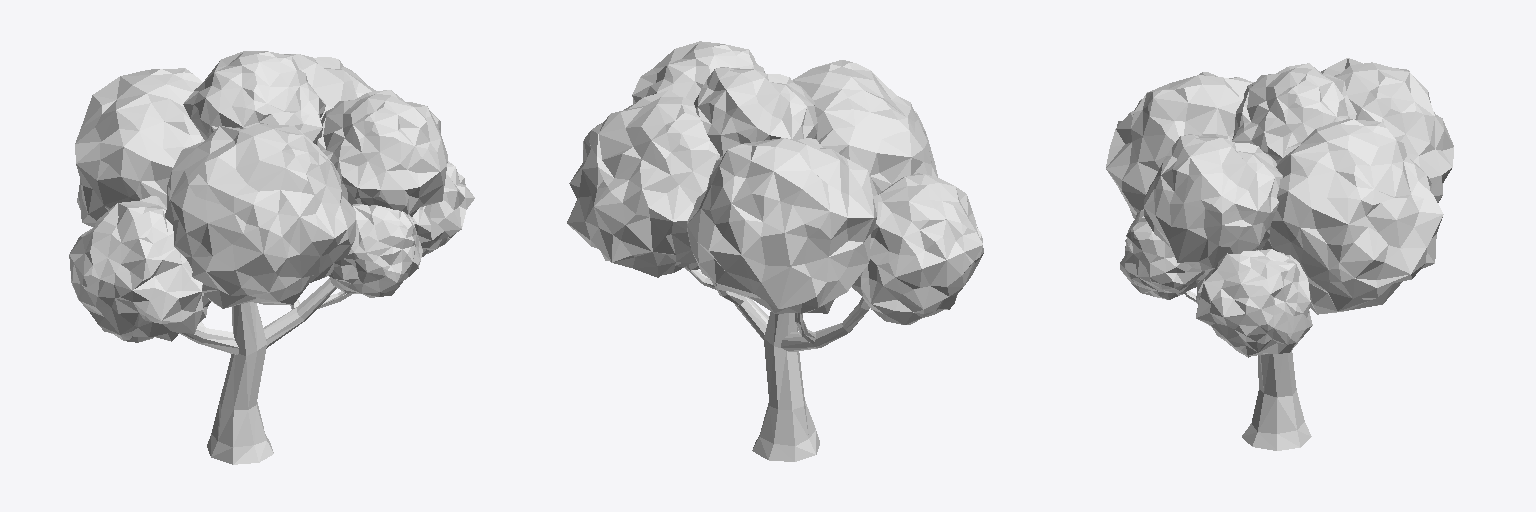
The picture shows the model from 3 angles: view 1: azimuth 30°, elevation 25°; view 2: azimuth 150°, elevation 25°; view 3: azimuth 270°, elevation 25°; orthographic projection.
Parts seen in each view (by area): view 1: Tree.3; view 2: Tree.3; view 3: Tree.3.
Boxes of the visible parts, x1=… form: Tree.3: x1=69, y1=51, x2=474, y2=464; Tree.3: x1=567, y1=41, x2=983, y2=461; Tree.3: x1=1106, y1=58, x2=1453, y2=450.
Size of the model in its own units: 8.18 by 7.62 by 6.38.